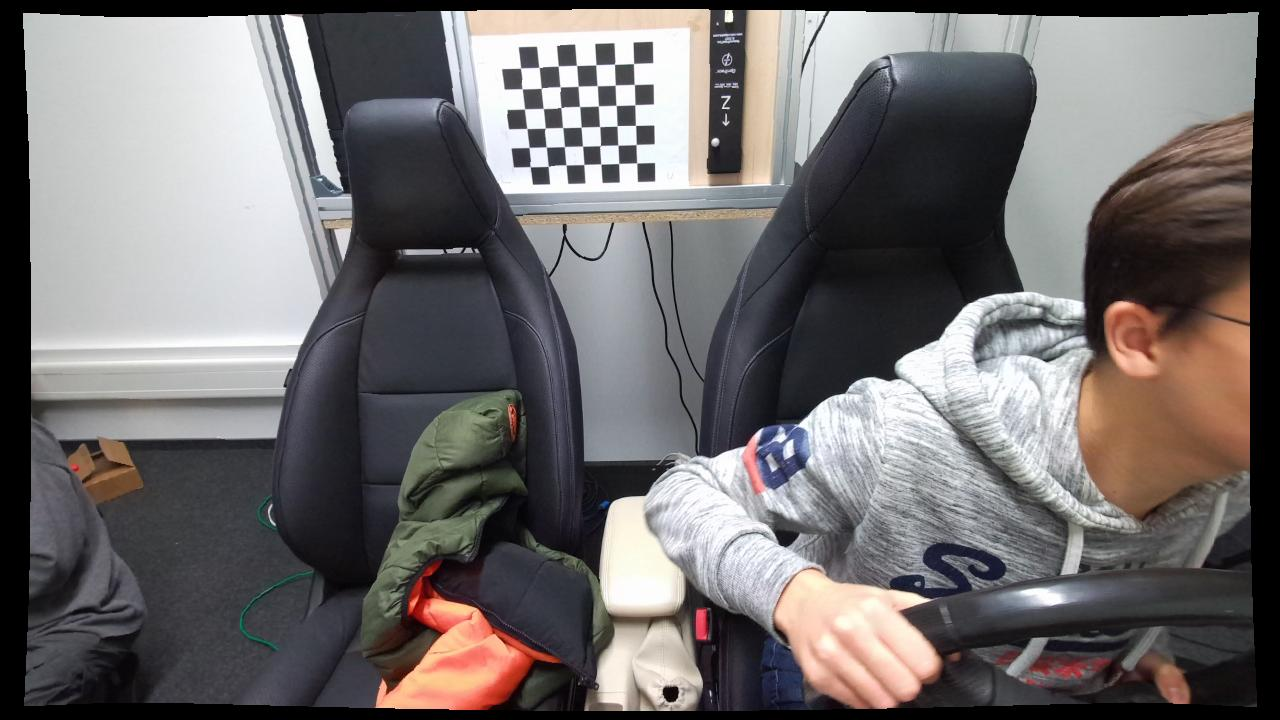Distracted: (644, 110, 1251, 709)
